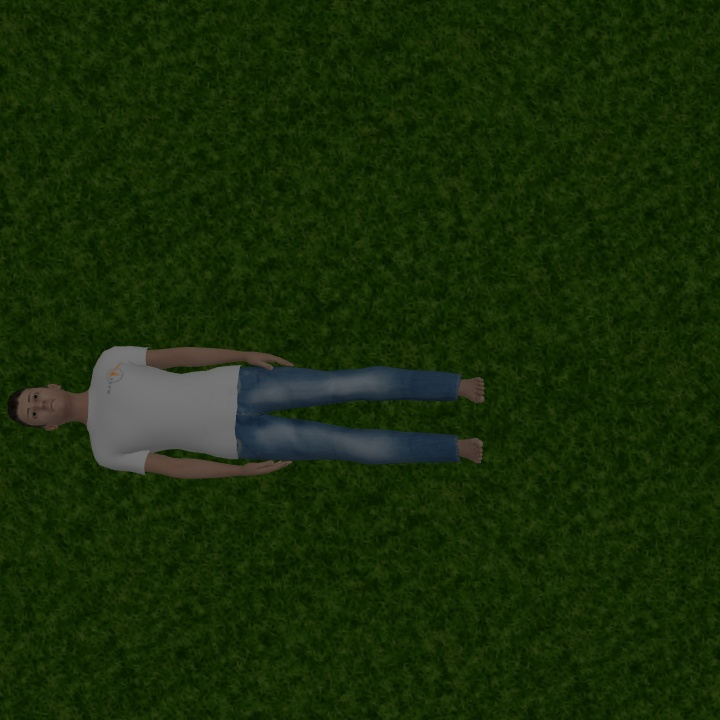victim: (12, 344, 485, 484)
